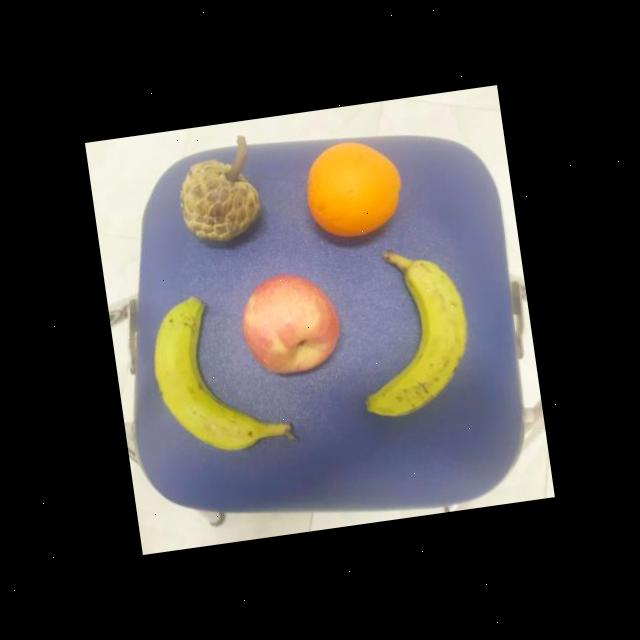Sakya fruit: (174, 151, 268, 248)
apple: (232, 266, 350, 386)
banana: (144, 282, 300, 462), (344, 237, 482, 421)
orange: (300, 134, 410, 242)
